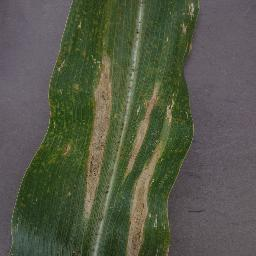Corn_Blight: (131, 95, 181, 202), (83, 49, 117, 163), (121, 203, 150, 256), (80, 163, 102, 227), (179, 2, 199, 58), (11, 190, 34, 214), (46, 52, 68, 74), (162, 238, 186, 256), (58, 139, 74, 161), (6, 222, 16, 250), (151, 212, 163, 234), (65, 247, 91, 256), (75, 17, 85, 34), (75, 80, 84, 95)
